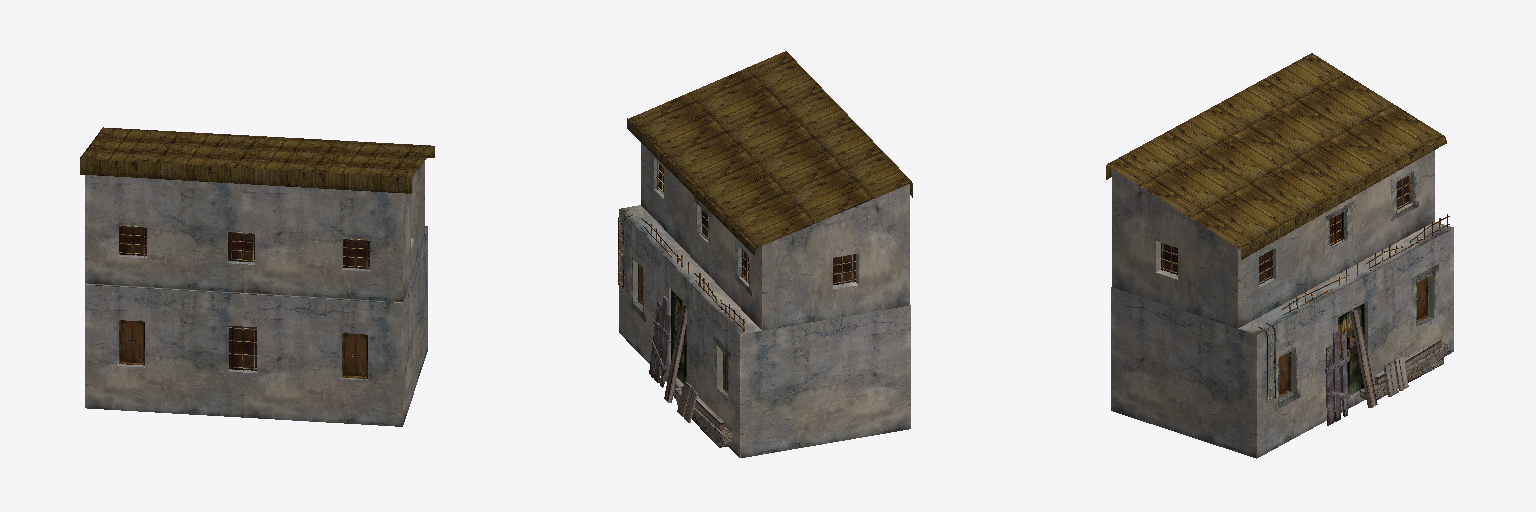
3 views of the same model, side by side, from view 1: azimuth 30°, elevation 25°; view 2: azimuth 150°, elevation 25°; view 3: azimuth 270°, elevation 25° (orthographic).
Bounding box in the file's own units: 241 × 179 × 226.
Materials: 8 (8 with a texture image).